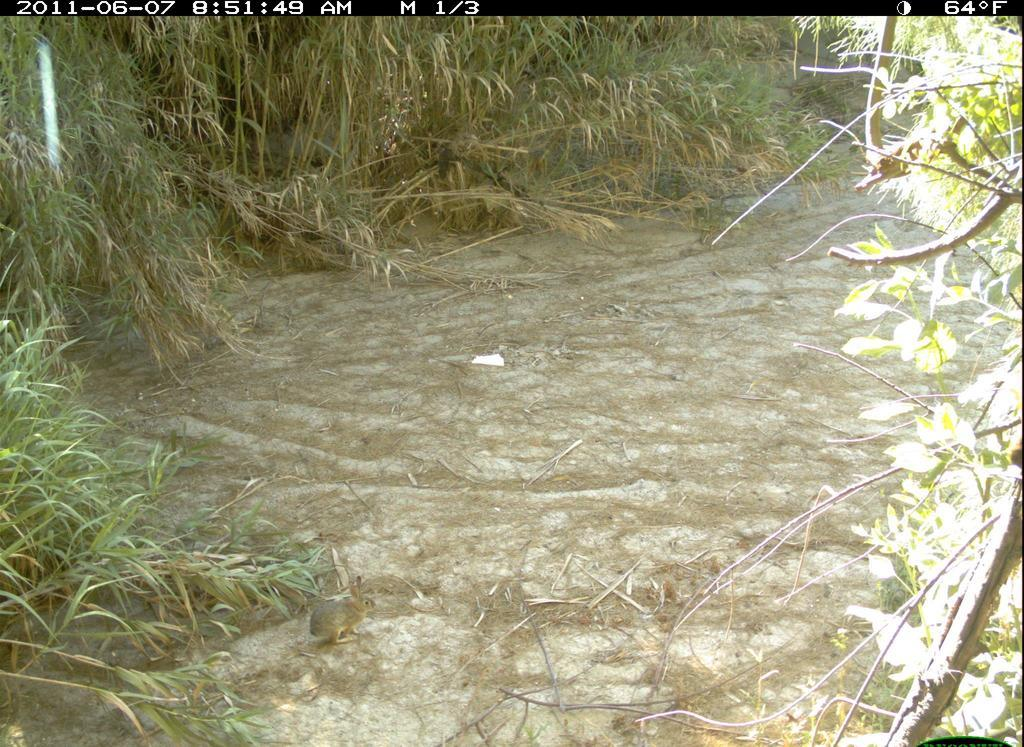rabbit: (297, 571, 391, 652)
